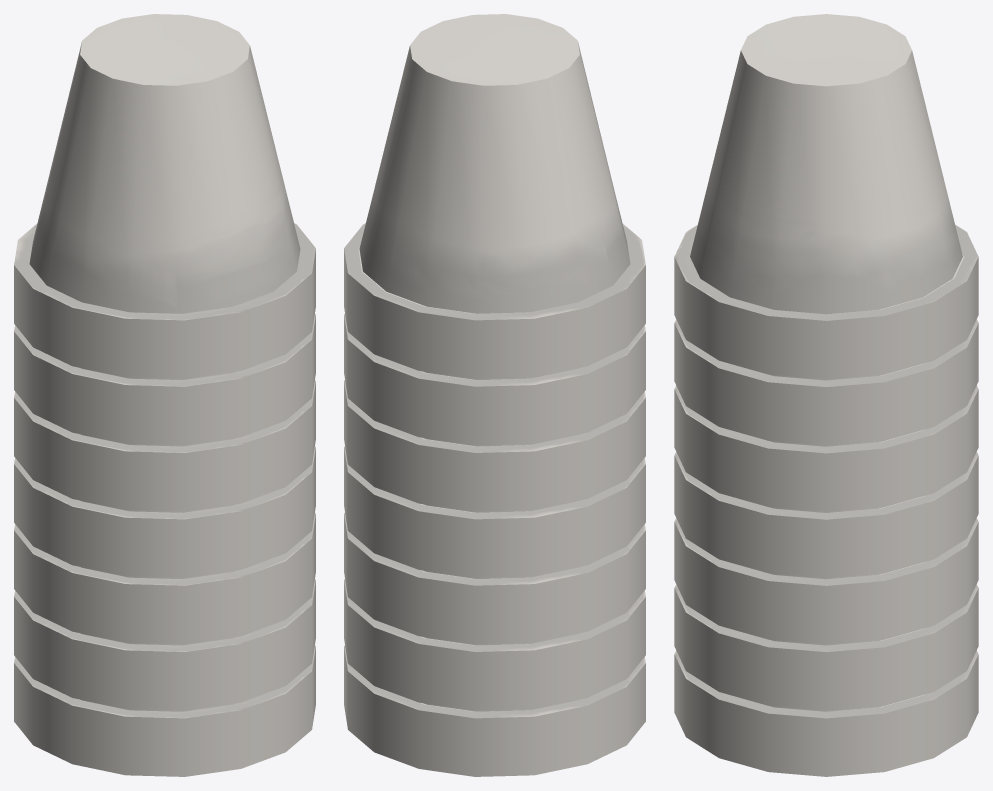
The model's file is 7 copos down.fbx.
3 views of the same model, side by side, from view 1: azimuth 30°, elevation 25°; view 2: azimuth 150°, elevation 25°; view 3: azimuth 270°, elevation 25° (orthographic).
Parts seen in each view (by area): view 1: copinhos 7baixo; view 2: copinhos 7baixo; view 3: copinhos 7baixo.
Part boxes in pixels (x1=…): copinhos 7baixo: x1=14, y1=14, x2=315, y2=776; copinhos 7baixo: x1=344, y1=14, x2=645, y2=776; copinhos 7baixo: x1=674, y1=14, x2=978, y2=776.
Size of the model in its own units: 66.84 by 161 by 66.84.
